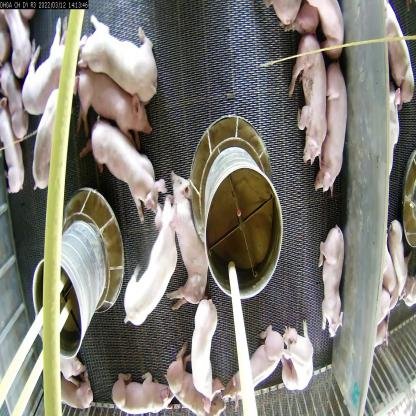Pig: (89, 111, 156, 215), (80, 18, 158, 105), (72, 60, 150, 144), (164, 173, 210, 308), (127, 200, 177, 324), (226, 319, 282, 408), (27, 86, 72, 193), (293, 33, 329, 164), (21, 21, 72, 112), (317, 60, 347, 212), (318, 224, 347, 340), (166, 349, 213, 415), (276, 324, 322, 391), (187, 300, 221, 390), (0, 102, 23, 212), (113, 375, 170, 415), (47, 369, 95, 416)
